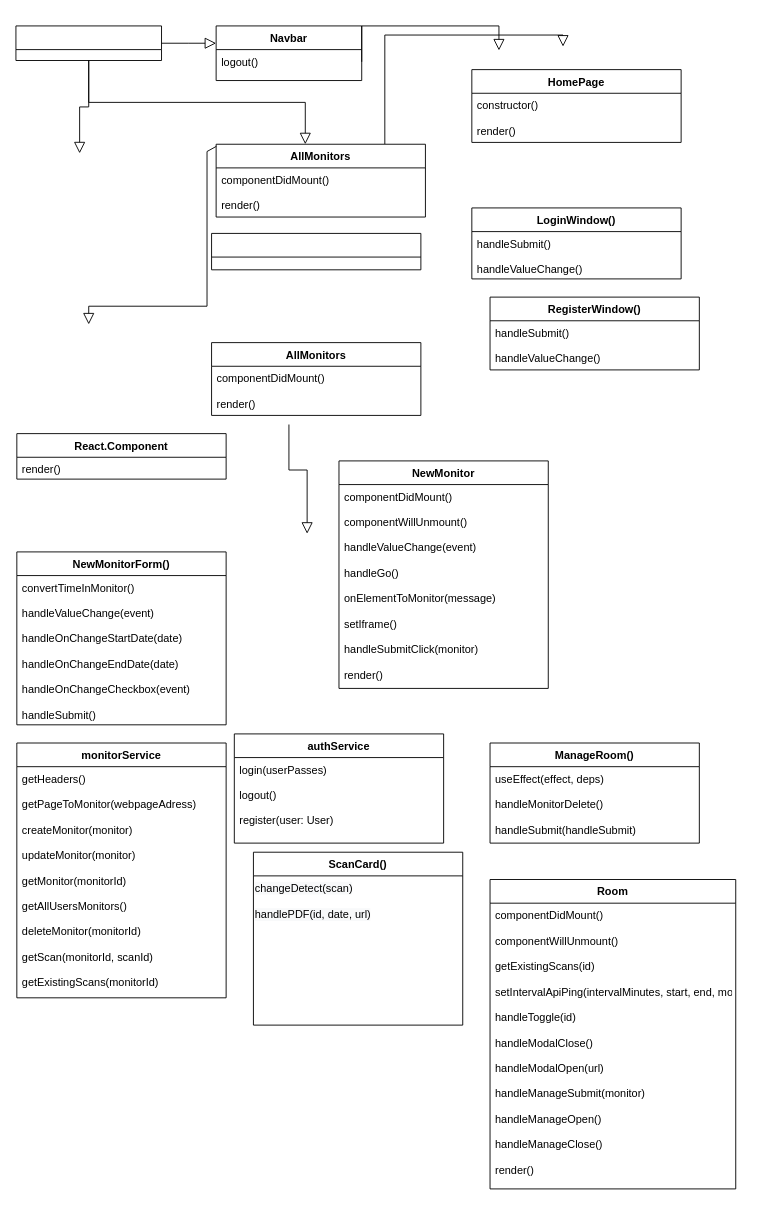
Some shapes in this 782 by 1208 pixel diagram are drawn without their labels. Here are the shapes that lost their labels. From the top down, the centre of each, then its label:
At point (88, 43): "App()".
At point (316, 251): "MonitorCard()".
